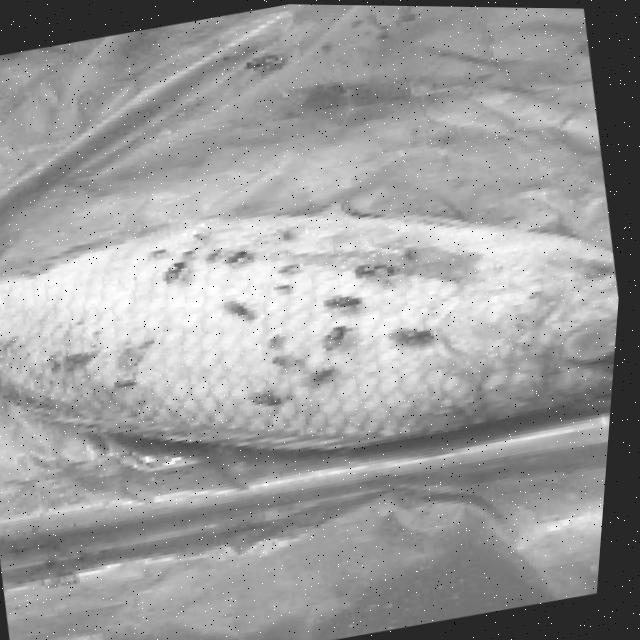Non-Fresh: (0, 179, 555, 466), (543, 297, 623, 386)
